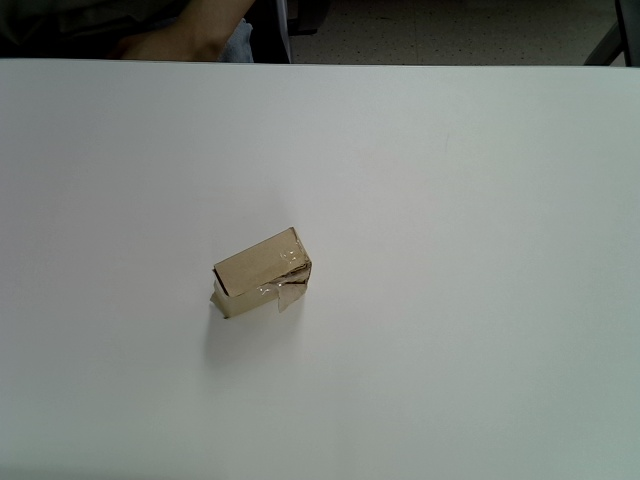defect: (209, 225, 315, 321)
